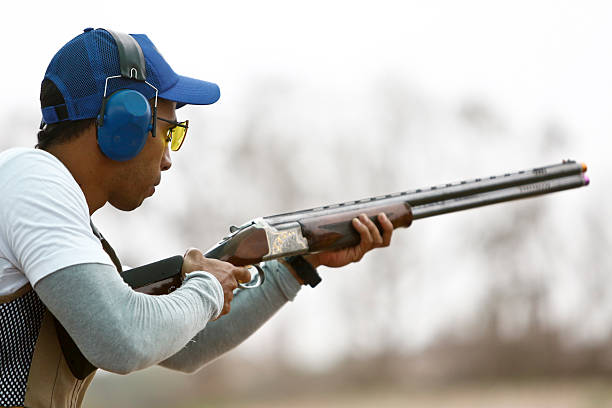shotgun: (93, 158, 589, 330)
